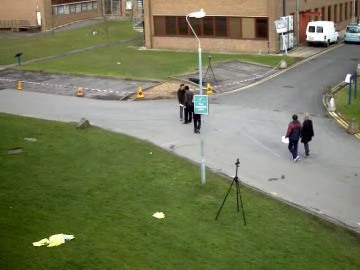person: (177, 84, 195, 128), (189, 100, 206, 139), (178, 87, 195, 126)
